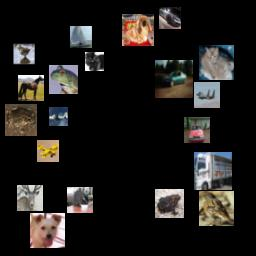airplane: (194, 82, 220, 108), (37, 140, 59, 162), (49, 107, 68, 126)
automobile: (155, 60, 193, 98), (184, 117, 210, 143), (159, 7, 181, 29)
bird: (199, 191, 234, 226), (13, 43, 35, 65)
cat: (199, 45, 234, 80), (67, 187, 93, 213), (85, 52, 104, 71)
deer: (17, 185, 43, 211)
dog: (30, 213, 65, 248), (122, 14, 154, 46)
frog: (5, 104, 37, 136), (155, 189, 184, 218), (49, 65, 78, 94)
ship: (70, 26, 92, 48)
truck: (194, 152, 232, 190)
